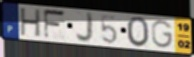5: (100, 14, 120, 45)
F: (42, 9, 67, 41)
G: (151, 19, 175, 49)
H: (19, 8, 42, 39)
J: (75, 11, 95, 44)
O: (126, 15, 151, 48)
